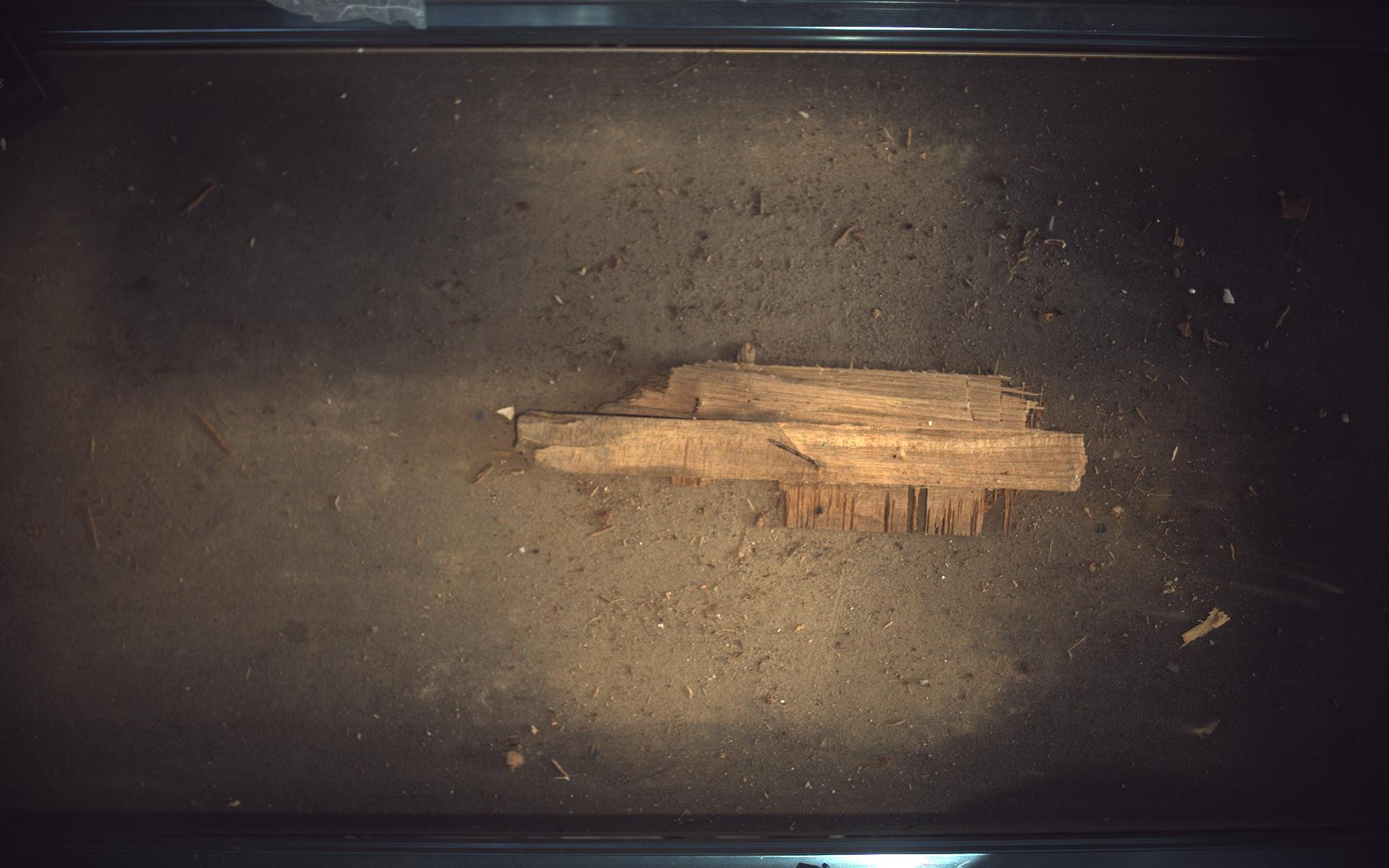wood: (518, 361, 1089, 536)
